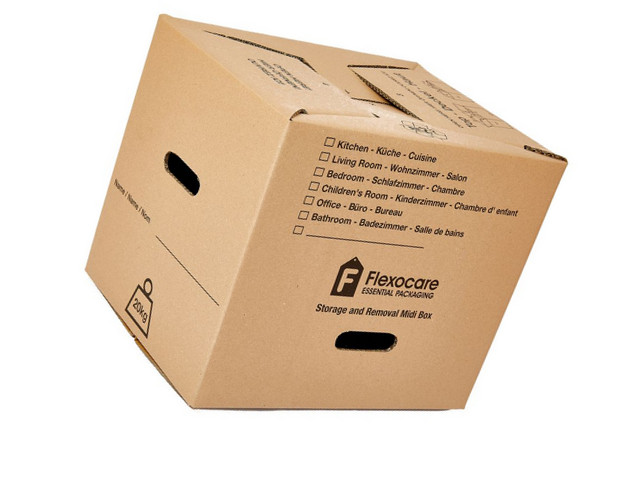cardboard: (94, 19, 552, 408)
